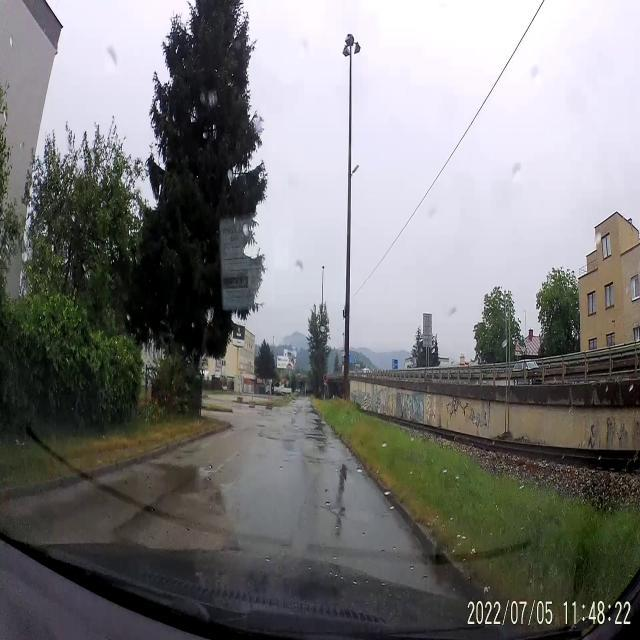Pothole: (328, 505, 347, 518)
